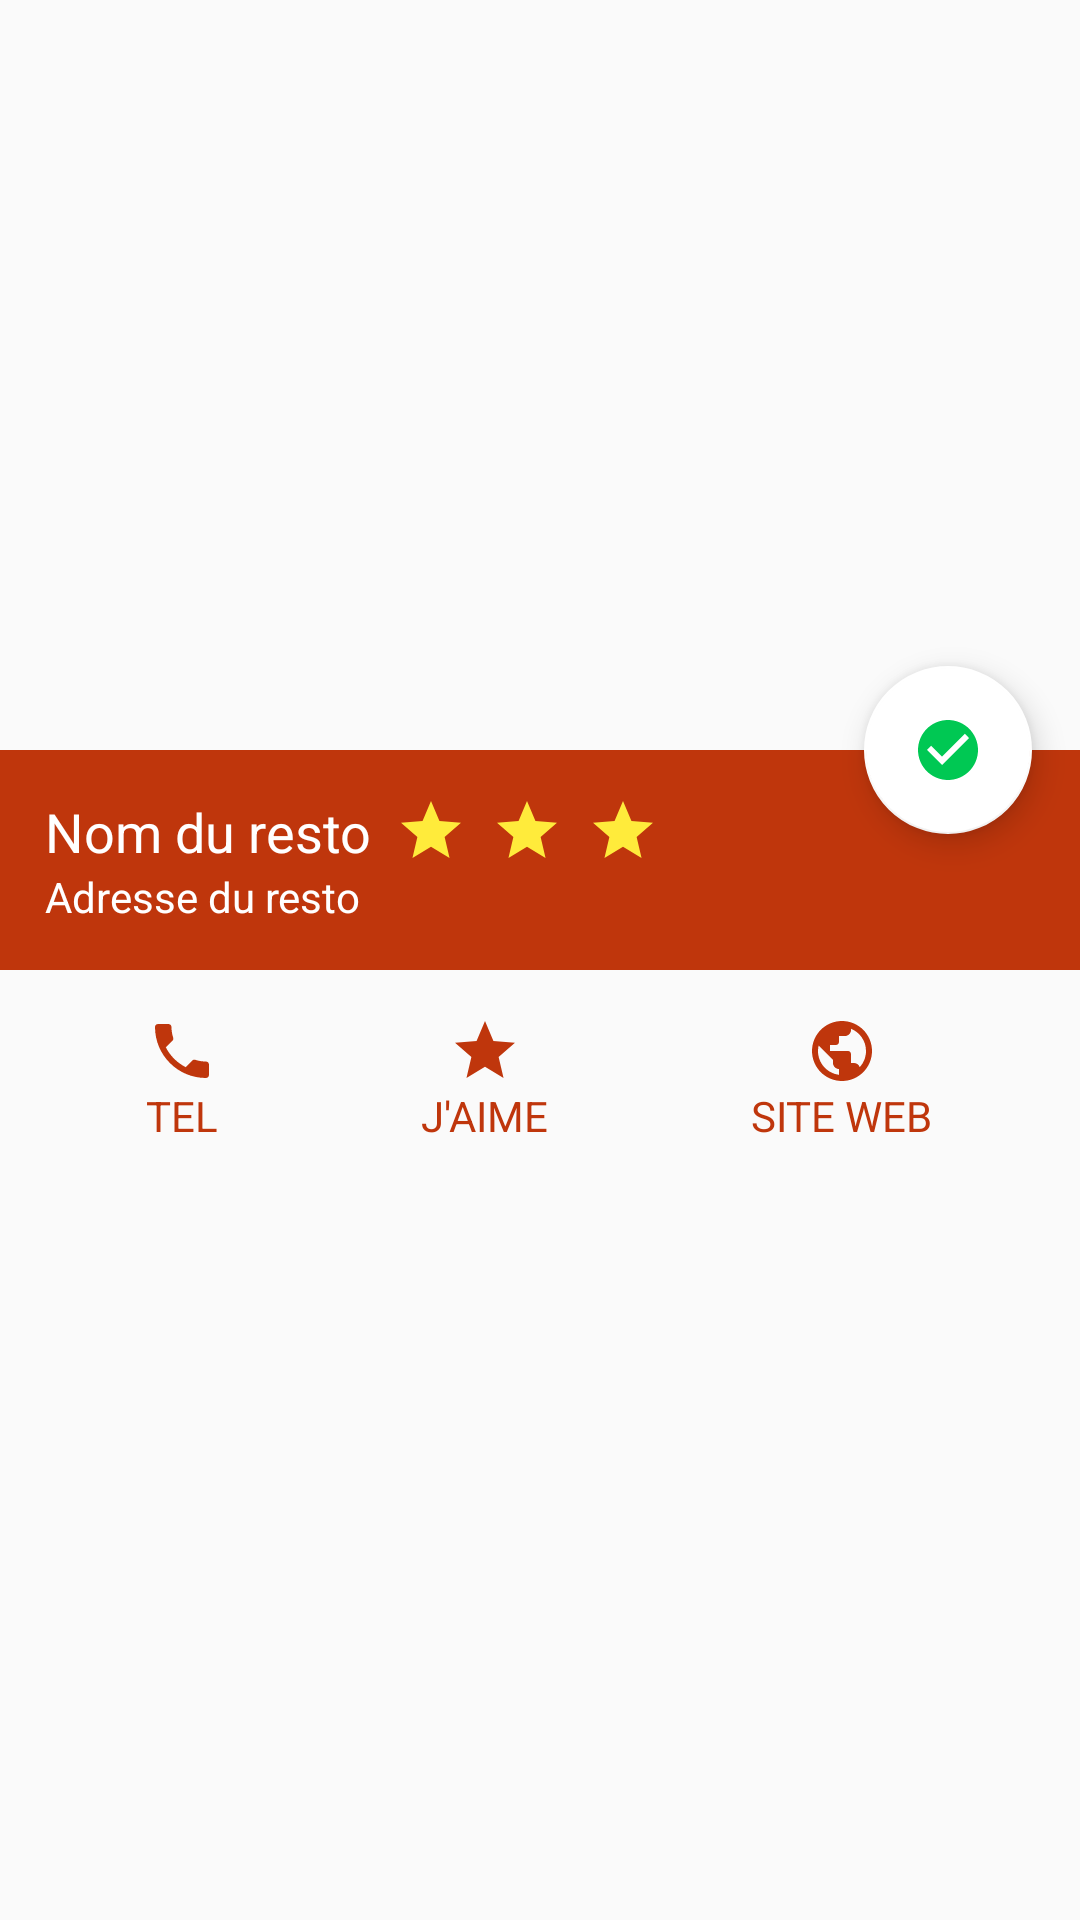

Screen size 1080*1920. Icon name, then its center in pixels as point (x, y):
star: point (431, 829), point (527, 829), point (623, 829), point (485, 1049)
validation: point (948, 750)
